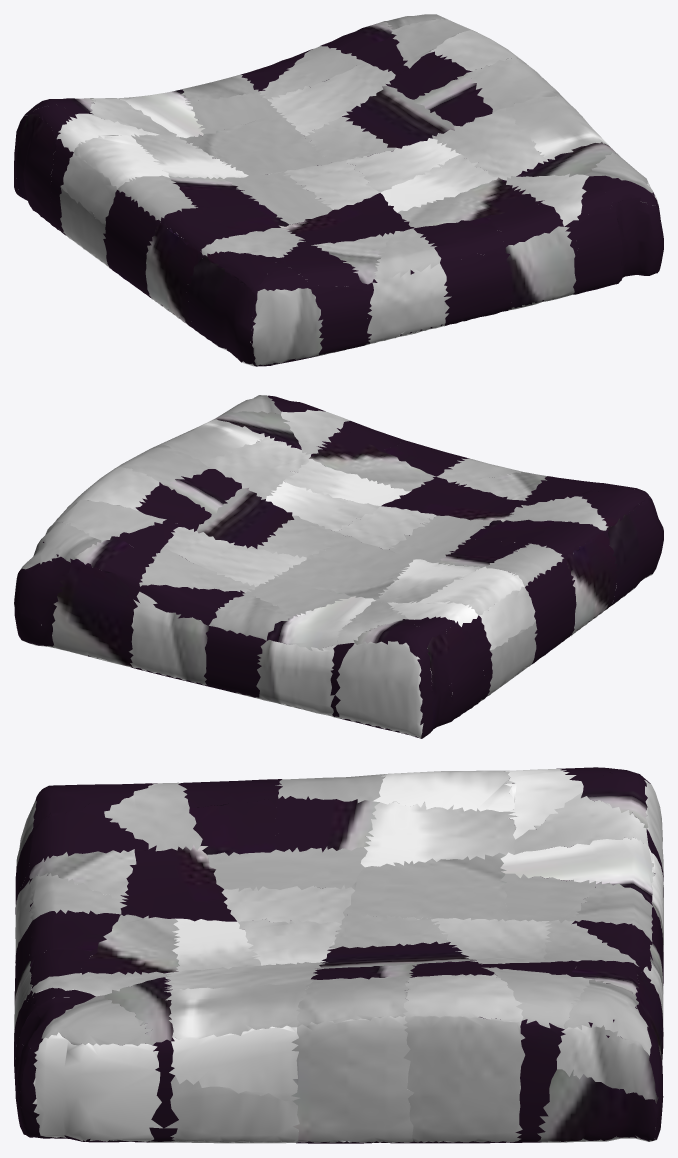
The model's file is cloth.glb.
3 renders of one model, top to bottom at view 1: azimuth 30°, elevation 25°; view 2: azimuth 150°, elevation 25°; view 3: azimuth 270°, elevation 25°, orthographic. The views are drawn at different scales.
Parts seen in each view (by area): view 1: Model; view 2: Model; view 3: Model.
Boxes of the visible parts, x1,y1,x2,y2 form: Model: (14,14,663,366); Model: (14,395,663,738); Model: (14,767,663,1143).
Bounding box in the file's own units: 10 × 2.5 × 10.
Materials: 1 (1 with a texture image).
